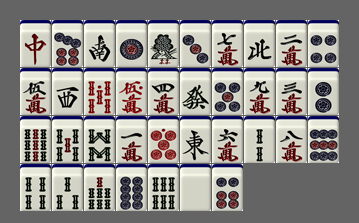0m: (116, 68, 147, 115)
0p: (148, 116, 179, 163)
0s: (84, 68, 115, 115)
1m: (116, 116, 147, 163)
1p: (116, 20, 147, 67)
1s: (148, 20, 179, 67)
1z: (180, 116, 211, 163)
2m: (276, 20, 307, 67)
2p: (308, 68, 339, 115)
2s: (244, 116, 275, 163)
2z: (84, 20, 115, 67)
3m: (276, 68, 307, 115)
3p: (180, 20, 211, 67)
3s: (52, 164, 83, 211)
3z: (52, 68, 83, 115)
4m: (148, 68, 179, 115)
4p: (308, 20, 339, 67)
4s: (20, 164, 51, 211)
4z: (244, 20, 275, 67)
5m: (20, 68, 51, 115)
5p: (212, 68, 243, 115)
5s: (52, 116, 83, 163)
5z: (180, 164, 211, 211)
6m: (212, 116, 243, 163)
6p: (212, 164, 243, 211)
6s: (148, 164, 179, 211)
6z: (180, 68, 211, 115)
7m: (212, 20, 243, 67)
7p: (52, 20, 83, 67)
7s: (84, 164, 115, 211)
7z: (20, 20, 51, 67)
8m: (276, 116, 307, 163)
8p: (116, 164, 147, 211)
8s: (84, 116, 115, 163)
9m: (244, 68, 275, 115)
9p: (308, 116, 339, 163)
9s: (20, 116, 51, 163)
